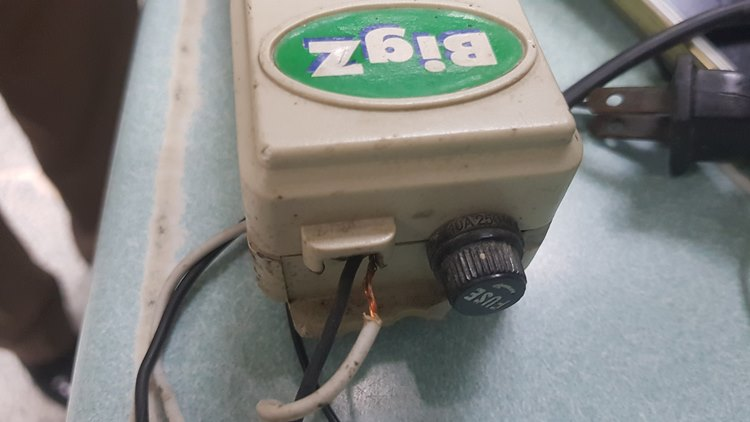Three_eye_plug: (216, 1, 587, 347)
